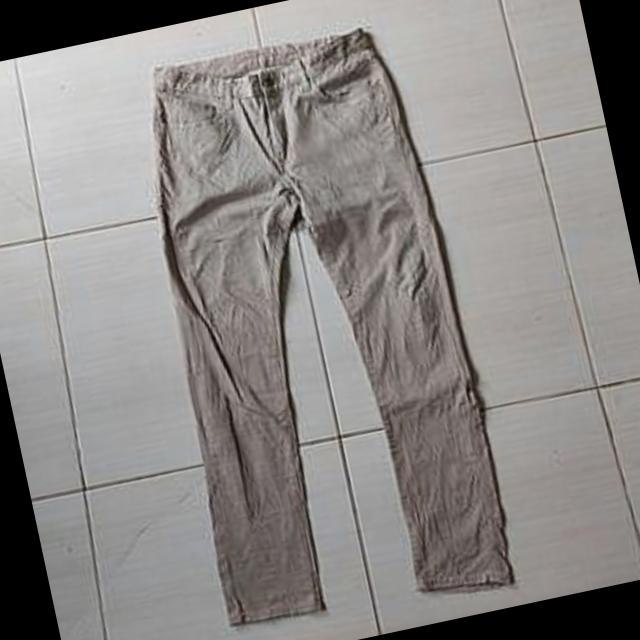TROUSER: (93, 2, 551, 640)
